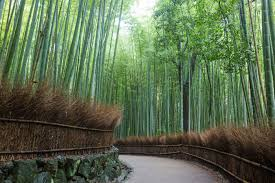bamboo: (192, 2, 275, 133), (2, 1, 121, 91), (124, 1, 179, 135)
